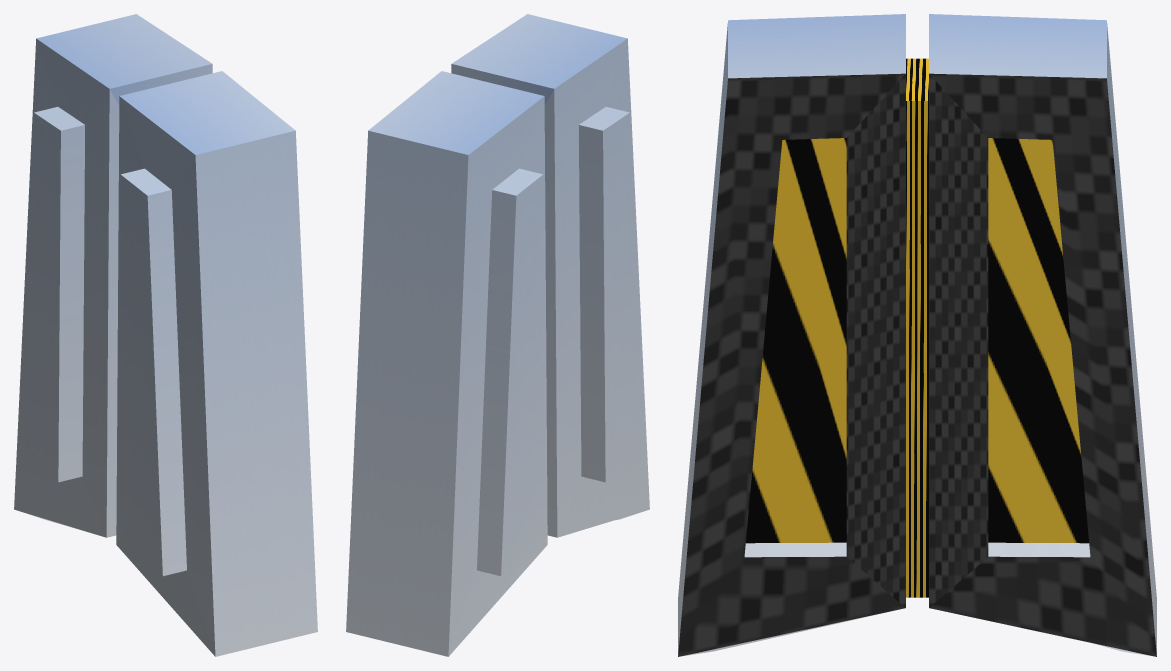
Rendered from HangarDoor 1.fbx.
The picture shows the model from 3 angles, left to right: view 1: azimuth 30°, elevation 25°; view 2: azimuth 150°, elevation 25°; view 3: azimuth 270°, elevation 25°; orthographic projection. The views are drawn at different scales.
Visible parts, largest first — view 1: Cube.019, Cube.004; view 2: Cube.004, Cube.019; view 3: Cube.019, Cube.004.
Part boxes in pixels (bbox=[...]): Cube.019: bbox=[116, 71, 317, 656]; Cube.004: bbox=[14, 14, 212, 537]; Cube.004: bbox=[346, 71, 547, 656]; Cube.019: bbox=[451, 14, 649, 537]; Cube.019: bbox=[678, 14, 917, 656]; Cube.004: bbox=[917, 14, 1156, 656].
Bounding box in the file's own units: 157 × 559 × 414.
